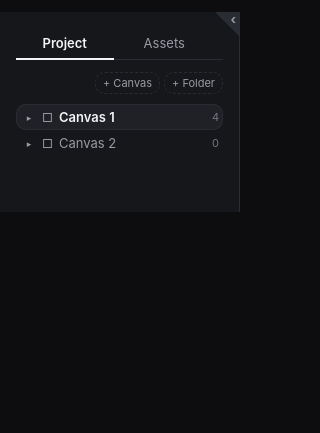
Test case: the board's shelf, one kind at a time › tells two shelves of one kind apart, and asks nothing of a kind with one
Click the tab with test id "left-tab-assets".
click(164, 44)  # box x1=116 y1=28 x2=213 y2=60
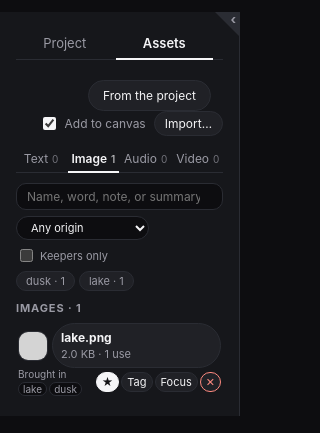
Click the tab "Audio 0".
click(146, 160)  # box x1=120 y1=146 x2=171 y2=173
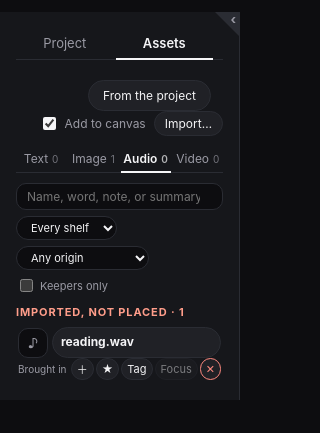
Select "Music" in the dropdown with test id "shelf-category" at (66, 228), box x1=16 y1=216 x2=117 y2=240
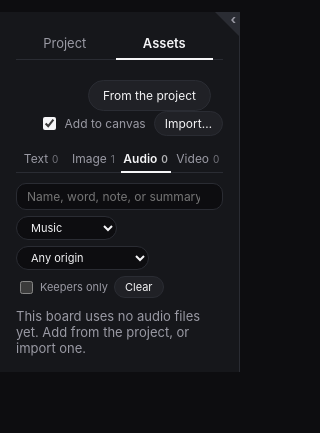
Click the tab "Image 1".
click(93, 160)  # box x1=68 y1=146 x2=119 y2=173
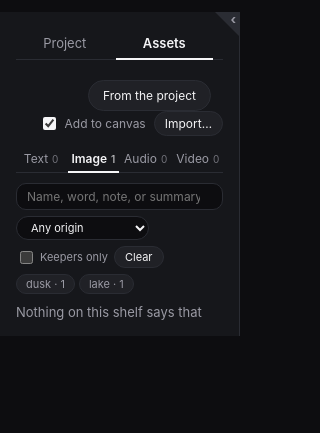
Expected: the dropdown with test id "shelf-category" is gone
